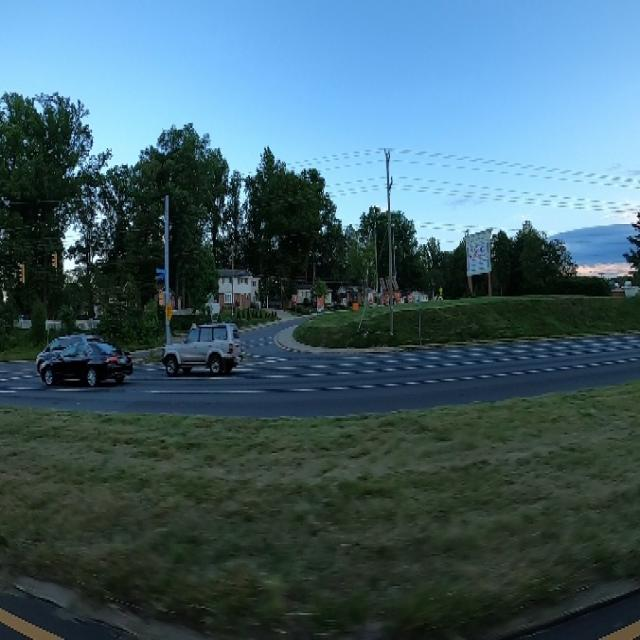cars: (156, 314, 249, 387), (38, 334, 136, 392), (32, 327, 104, 370)
